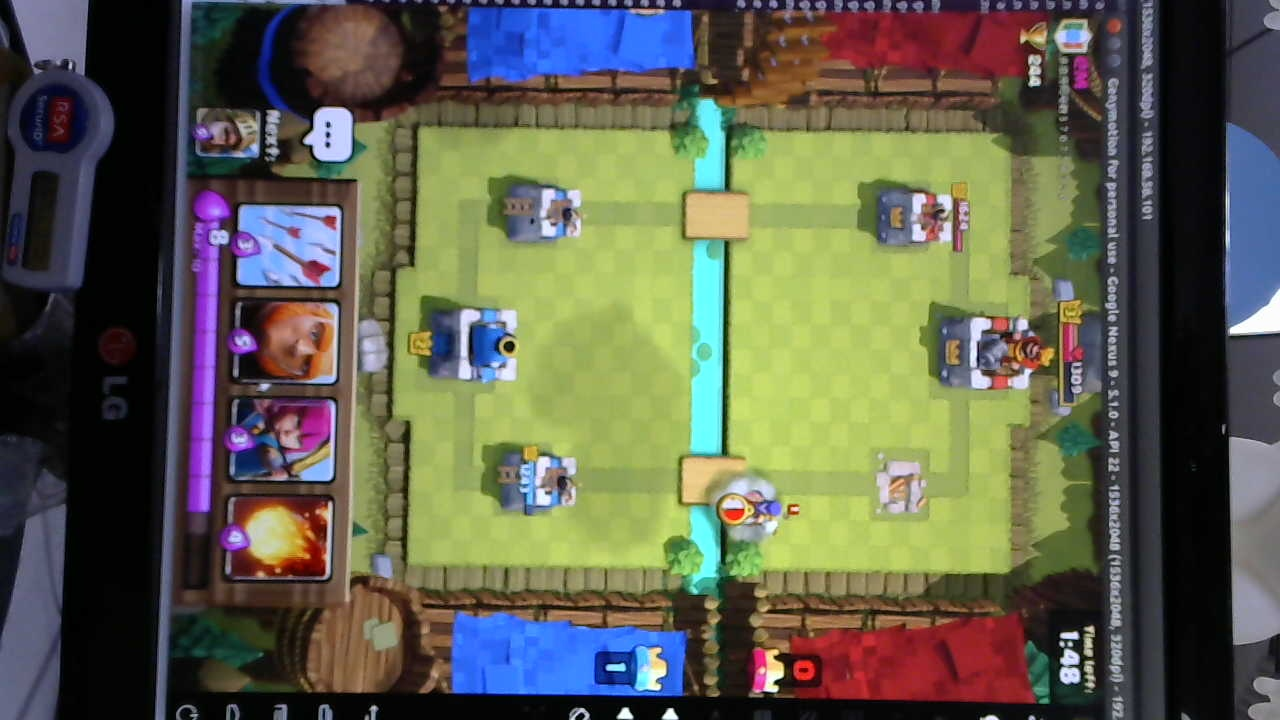witchE: (714, 484, 791, 538)
